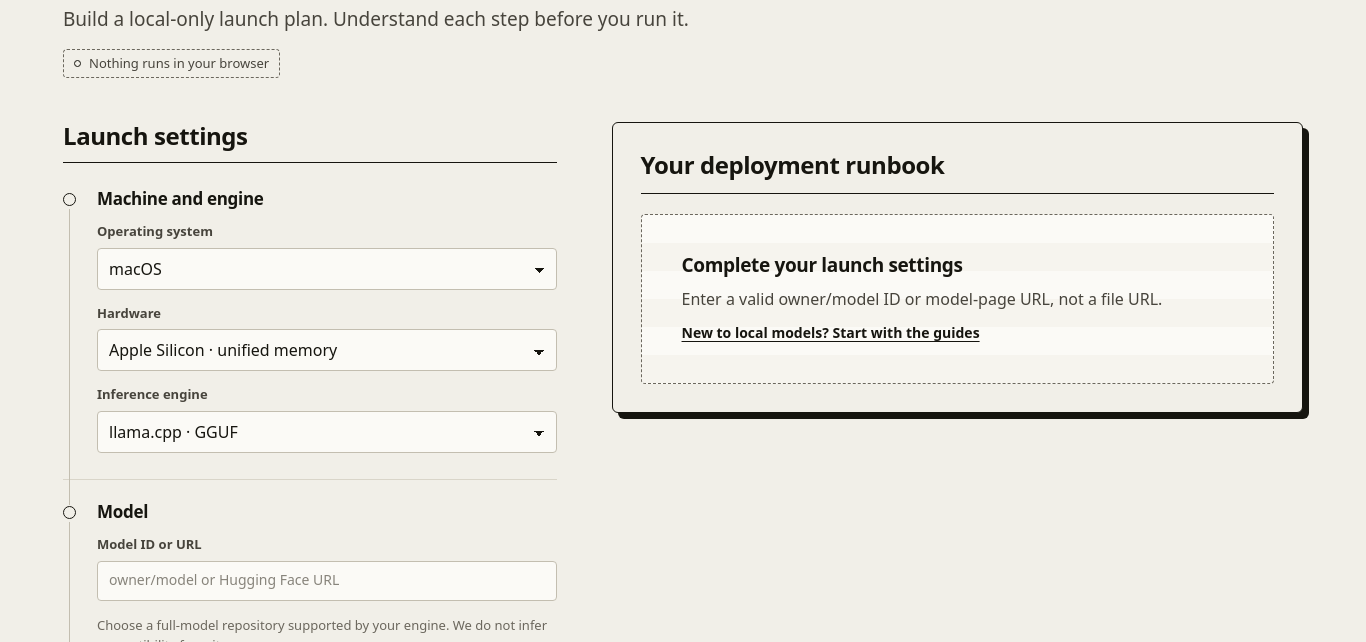
Test case: deployment workbench › copies successfully and reports clipboard errors truthfully
The image size is (1366, 642).
Type "example/model" into the field labelled "Model ID or URL" at (327, 581), box x1=97 y1=561 x2=557 y2=601
(page scrolled)
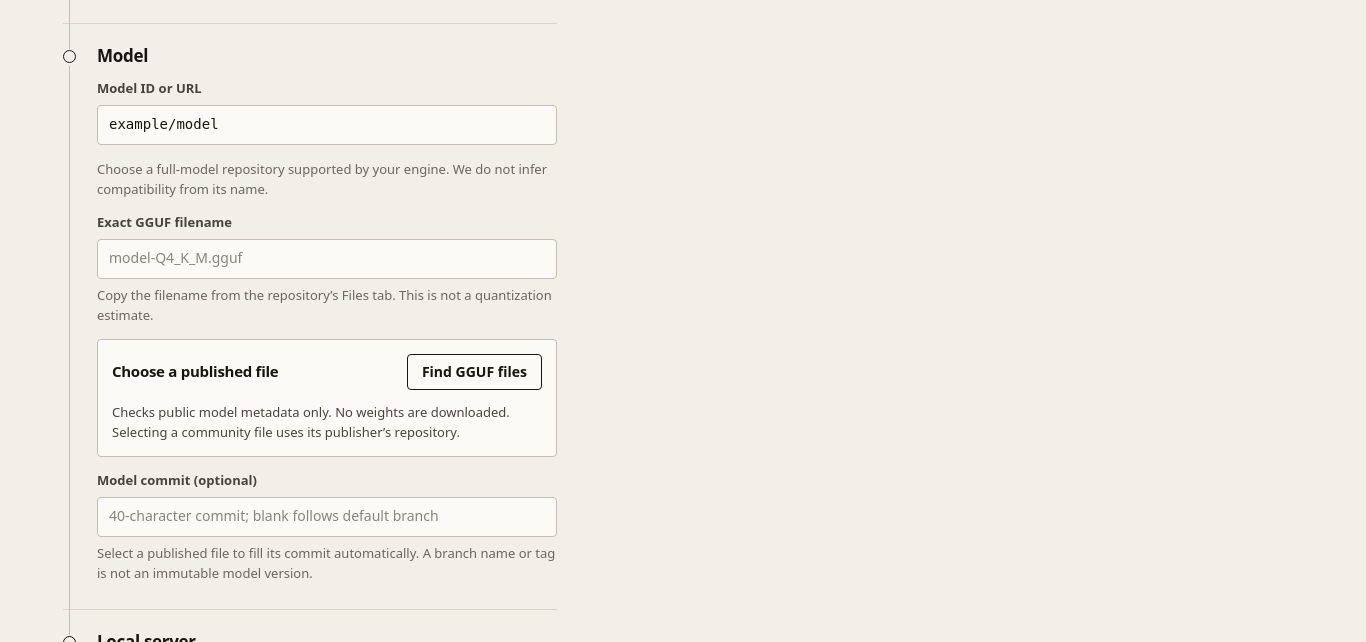
Type "model.gguf" into the field labelled "Exact GGUF filename" at (327, 259), box x1=97 y1=239 x2=557 y2=279
(page scrolled)
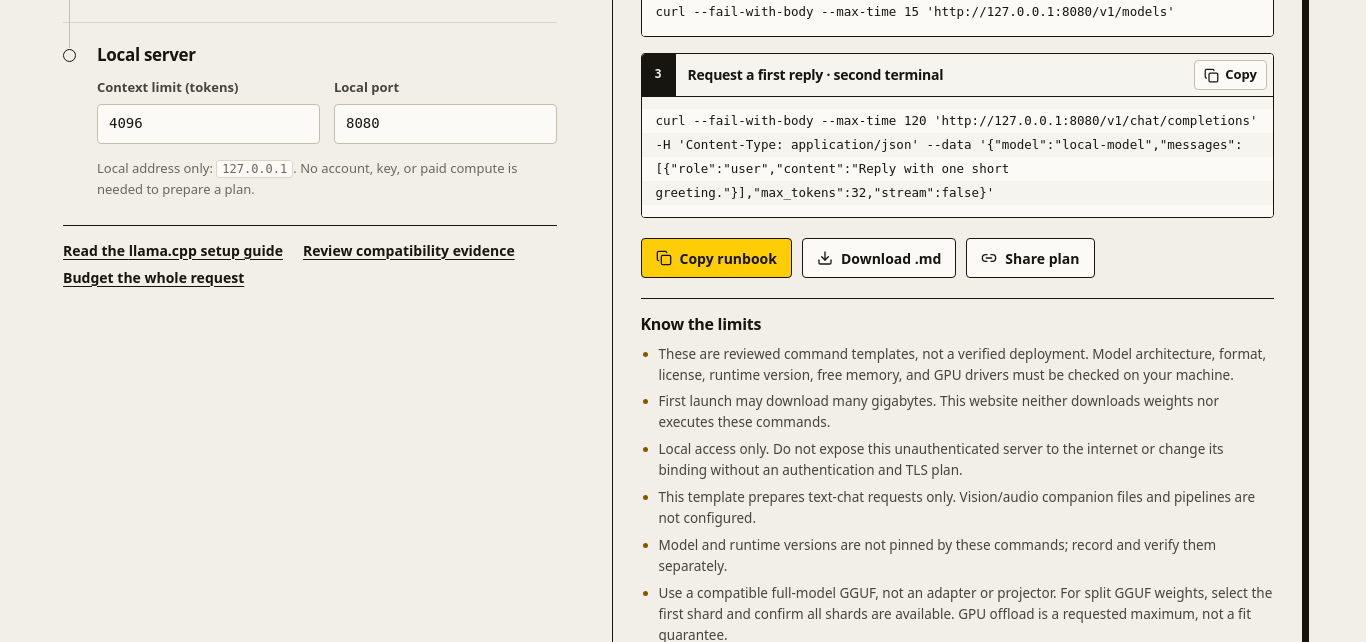
Click the button "Copy runbook" at (716, 258), box x1=640 y1=238 x2=792 y2=278
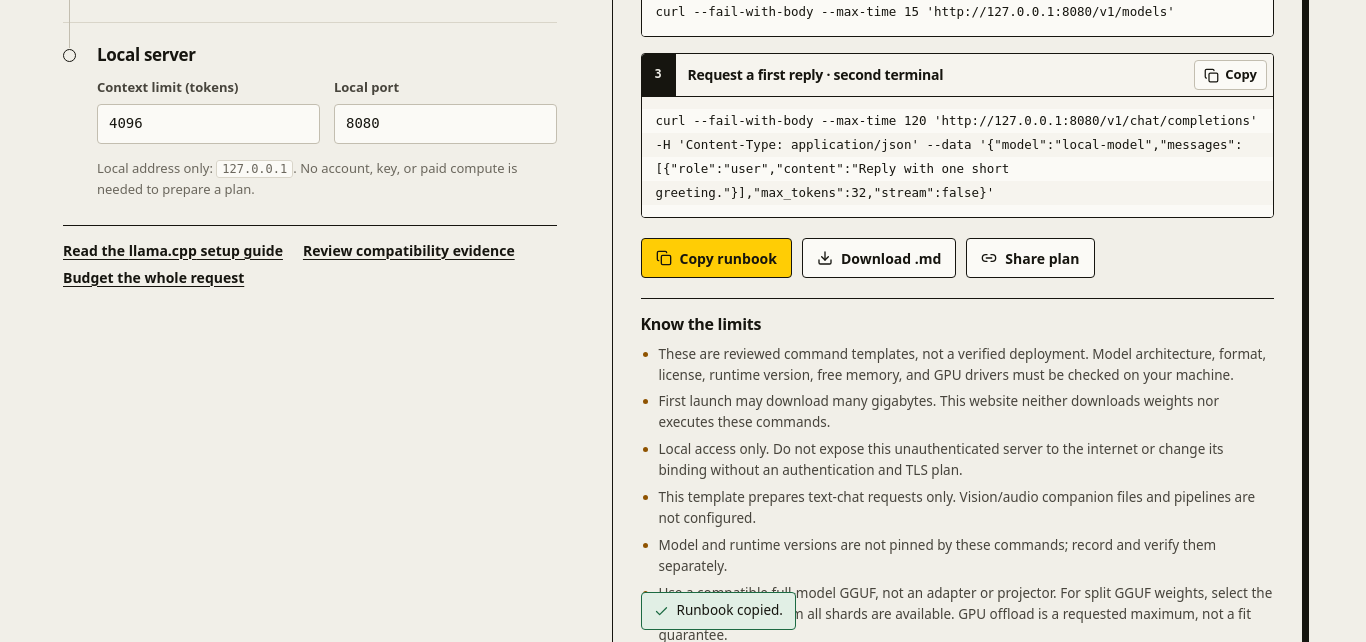
Now the message shows "Runbook copied", box x1=676 y1=601 x2=783 y2=619
Click the button "Share plan" at (1030, 258), box x1=966 y1=238 x2=1095 y2=278
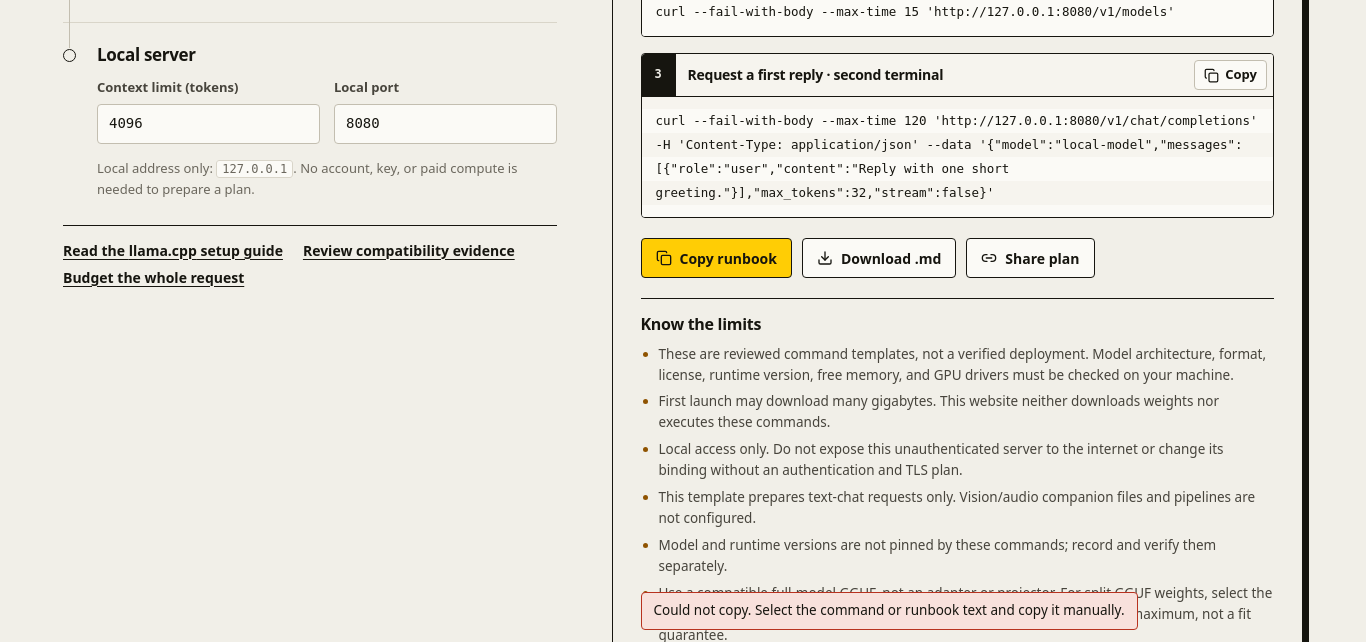
Now the message shows "Could not copy", box x1=654 y1=601 x2=1124 y2=619
